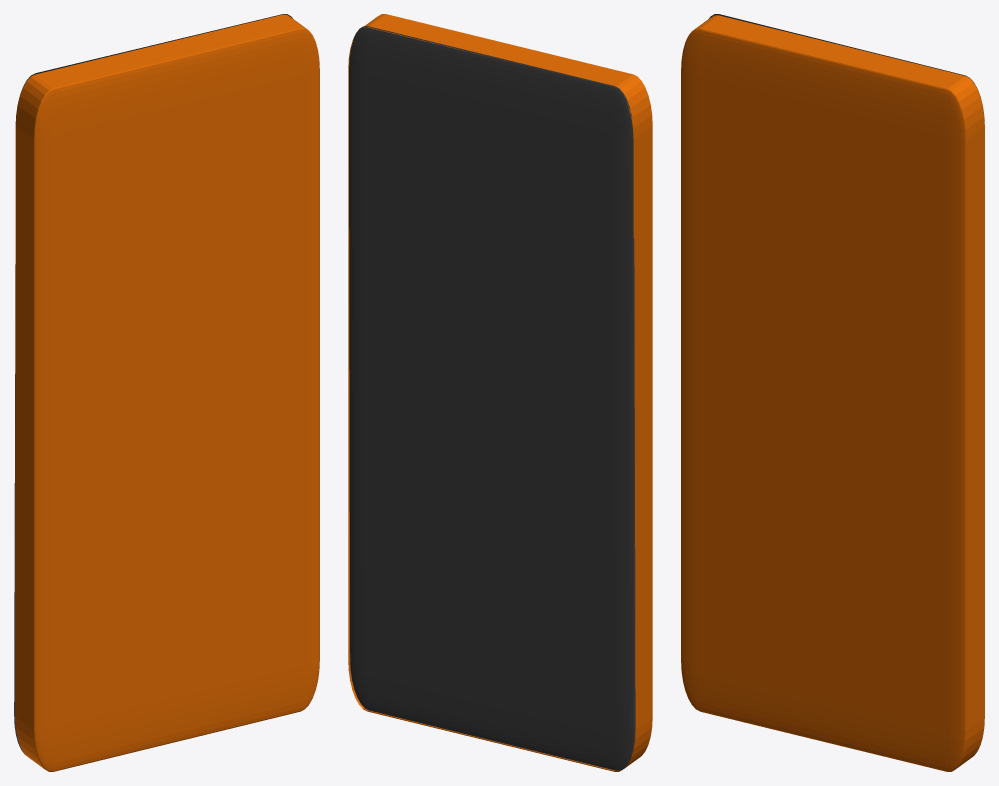
The model's file is phone.fbx.
3 views of the same model, side by side, from view 1: azimuth 30°, elevation 25°; view 2: azimuth 150°, elevation 25°; view 3: azimuth 330°, elevation 25° (orthographic).
Visible parts, largest first — view 1: Куб, Куб.001; view 2: Куб.001, Куб; view 3: Куб.
Part boxes in pixels (bbox=[...]): Куб: bbox=[15, 14, 319, 771]; Куб.001: bbox=[14, 14, 292, 754]; Куб.001: bbox=[349, 26, 635, 770]; Куб: bbox=[348, 14, 652, 771]; Куб: bbox=[681, 15, 984, 771].
Size of the model in its own units: 7.04 by 16.04 by 0.9036.
